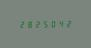eight: (25, 20, 32, 28)
five: (41, 20, 48, 27)
four: (57, 19, 64, 27)
two: (17, 20, 24, 28), (33, 20, 40, 28), (65, 19, 72, 27)
zero: (49, 19, 56, 27)
